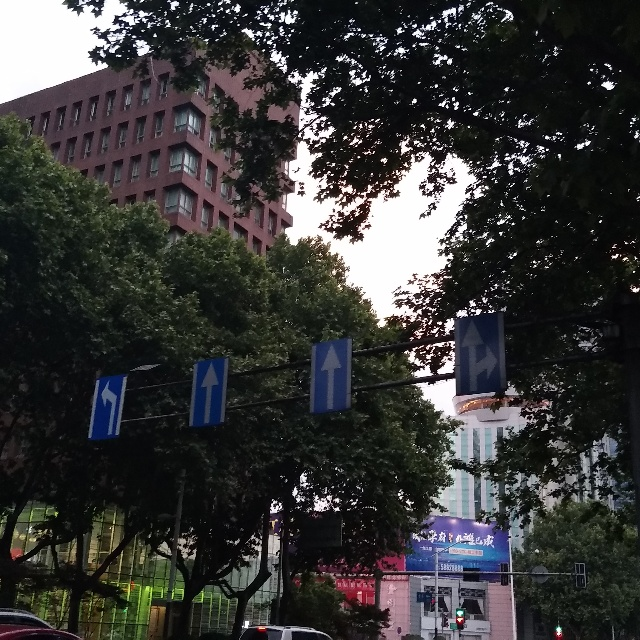left: (93, 376, 124, 441)
straight: (315, 342, 348, 411), (194, 363, 226, 426)
